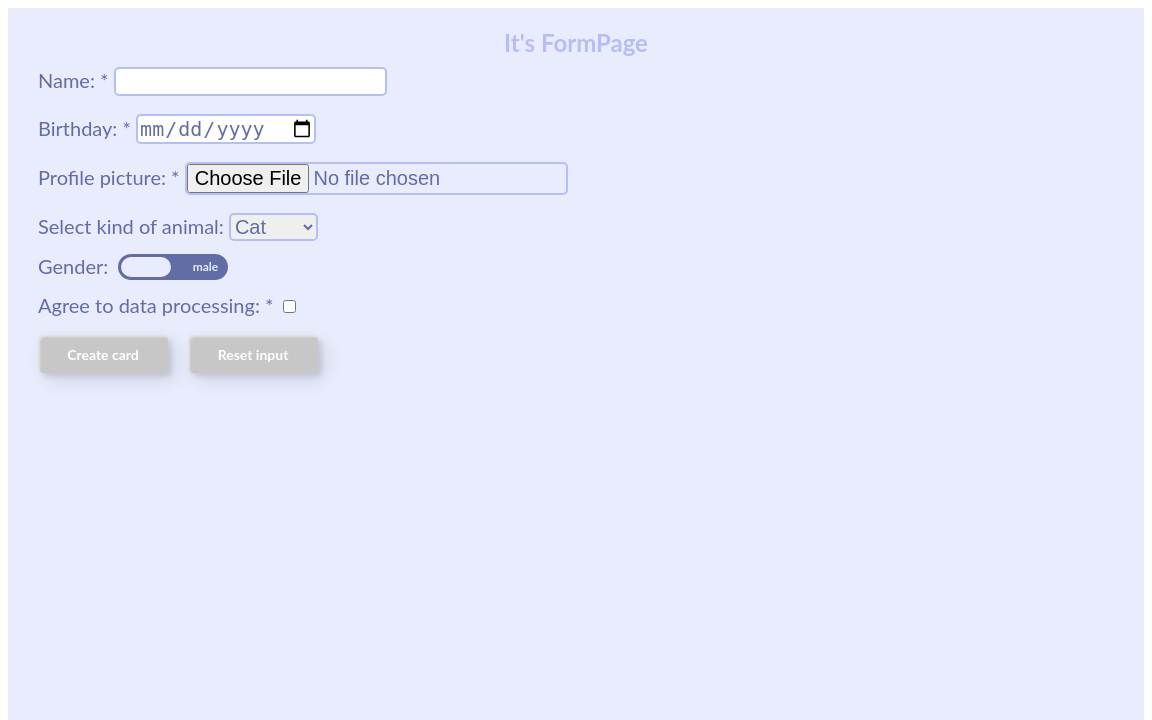
Test: <FormInput /> › with type "text" › if the name is not valid, then render the error message
Type "H" into the field labelled "Name: *" at (250, 82), box [114,67,387,96]
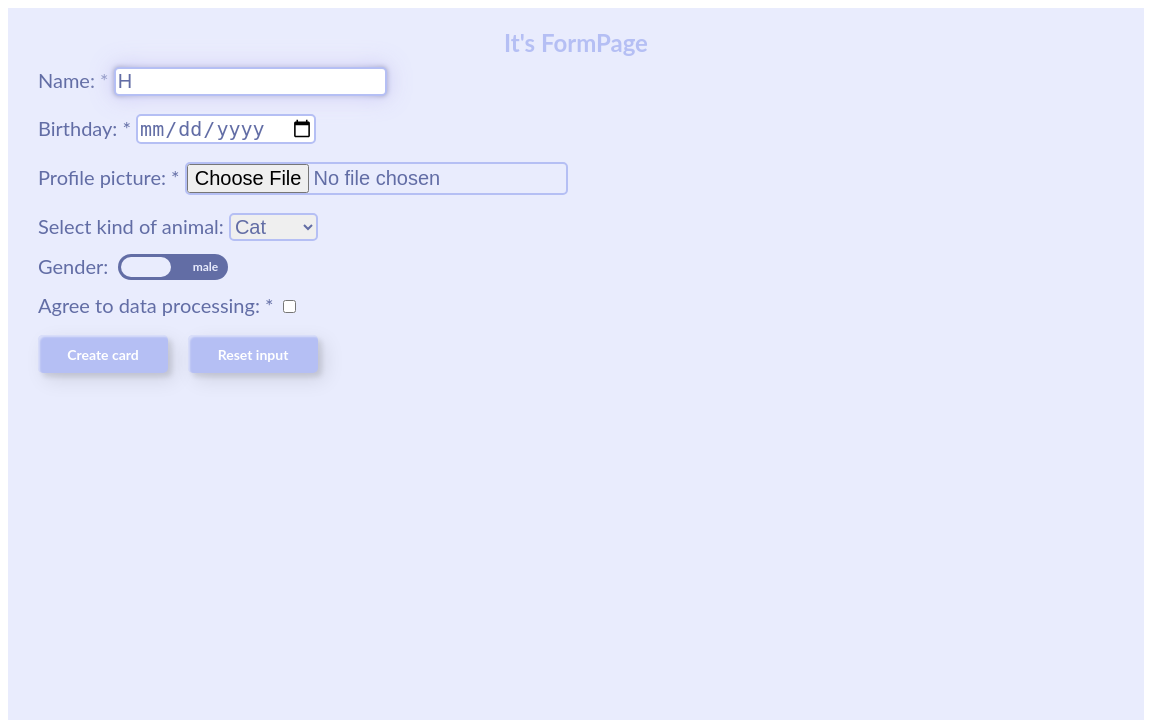
Check: the text "Please enter more than one character" is not shown
Press Enter
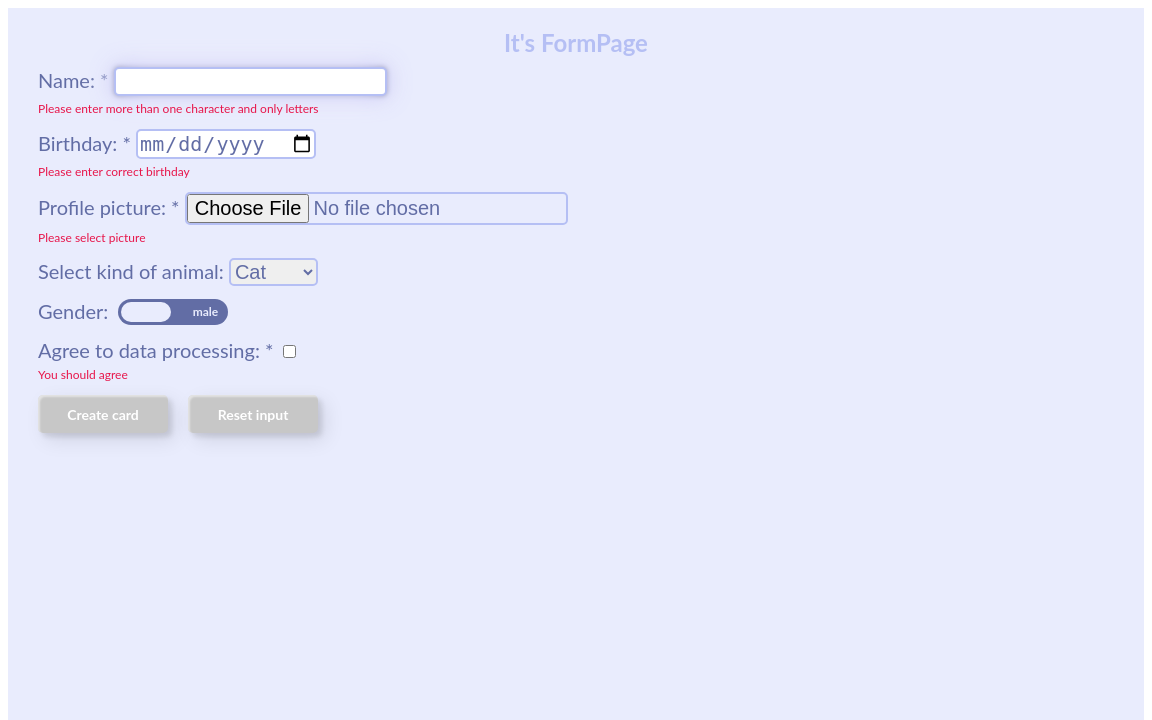
Check: the text "Please enter more than one character and only letters" is shown, box [38,101,319,116]
